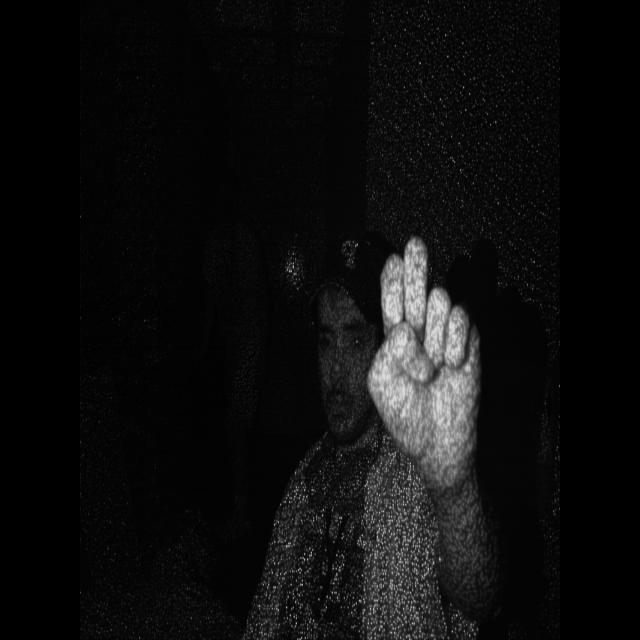S: (362, 222, 494, 489)
